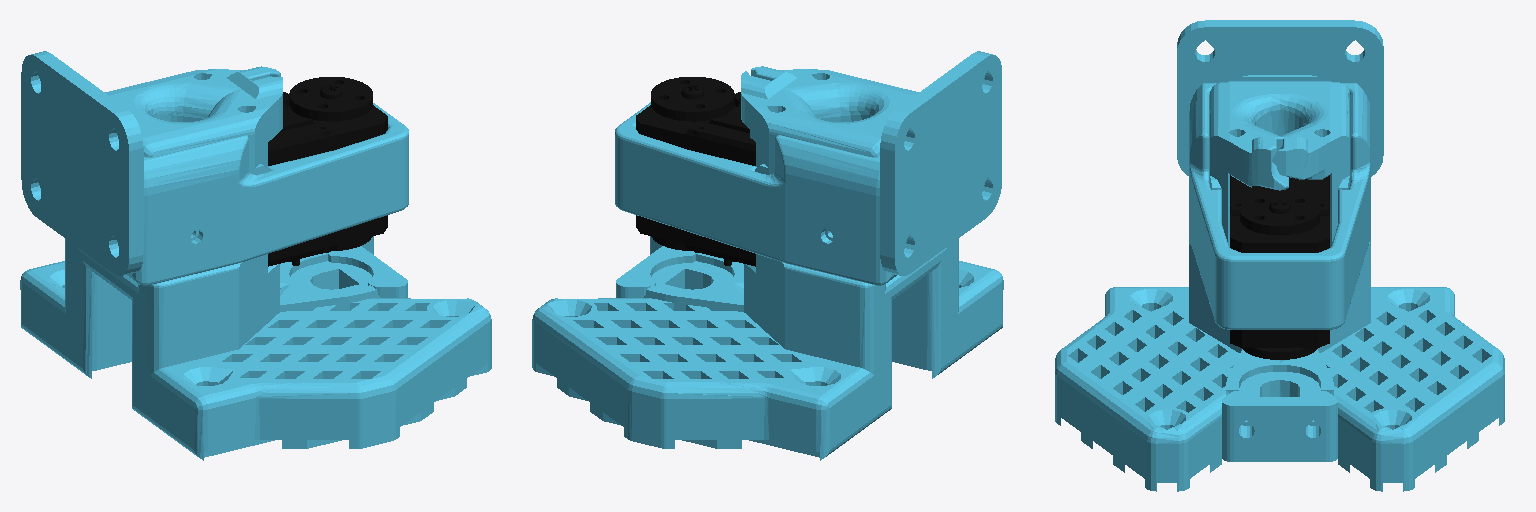
The robot description file, URDF, robot "SO-Arm":
<?xml version="1.0" ?>
<!-- =================================================================================== -->
<!-- |    This document was autogenerated by xacro from robot.xacro                    | -->
<!-- |    EDITING THIS FILE BY HAND IS NOT RECOMMENDED                                 | -->
<!-- =================================================================================== -->
<robot name="SO-Arm">
  <!-- Materials -->
  <material name="3d_printed">
    <color rgba="0.4 0.8196 0.945 1.0"/>
  </material>
  <material name="sts3215">
    <color rgba="0.1 0.1 0.1 1.0"/>
  </material>
  <link name="base_link">
    <inertial>
      <origin xyz="0 0.0311418169687909 0.0175746661003382"/>
      <mass value="0.193184127927598"/>
      <inertia ixx="0.000137030709467877" ixy="2.10136126944992E-08" ixz="4.24087422551286E-09" iyy="0.000169089551209259" iyz="2.26514711036514E-05" izz="0.000145097720857224"/>
    </inertial>
    <visual name="base_link_chassis">
      <geometry>
        <mesh filename="package://so_arm_description/meshes/so100/Base.stl"/>
      </geometry>
      <material name="3d_printed"/>
    </visual>
    <collision>
      <geometry>
        <mesh filename="package://so_arm_description/meshes/so100/Base.stl"/>
      </geometry>
    </collision>
  </link>
  <link name="motor1">
    <visual>
      <geometry>
        <mesh filename="package://so_arm_description/meshes/so100/Base_Motor.stl"/>
      </geometry>
      <material name="sts3215"/>
    </visual>
    <collision>
      <geometry>
        <mesh filename="package://so_arm_description/meshes/so100/Base_Motor.stl"/>
      </geometry>
    </collision>
  </link>
  <joint name="motor1_joint" type="fixed">
    <origin xyz="0 0 0"/>
    <parent link="base_link"/>
    <child link="motor1"/>
  </joint>
  <link name="Rotation_Pitch">
    <inertial>
      <origin xyz="-9.07886224712597E-05 0.0590971820568318 0.031089016892169"/>
      <mass value="0.119226314127197"/>
      <inertia ixx="5.90408775624429E-05" ixy="4.90800532852998E-07" ixz="-5.90451772654387E-08" iyy="3.21498601038881E-05" iyz="-4.58026206663885E-06" izz="5.86058514263952E-05"/>
    </inertial>
    <visual name="rotation_pitch_chassis">
      <geometry>
        <mesh filename="package://so_arm_description/meshes/so100/Rotation_Pitch.stl"/>
      </geometry>
      <material name="3d_printed"/>
    </visual>
    <collision>
      <geometry>
        <mesh filename="package://so_arm_description/meshes/so100/Rotation_Pitch.stl"/>
      </geometry>
    </collision>
  </link>
  <link name="motor2">
    <visual>
      <geometry>
        <mesh filename="package://so_arm_description/meshes/so100/Rotation_Pitch_Motor.stl"/>
      </geometry>
      <material name="sts3215"/>
    </visual>
    <collision>
      <geometry>
        <mesh filename="package://so_arm_description/meshes/so100/Rotation_Pitch_Motor.stl"/>
      </geometry>
    </collision>
  </link>
  <joint name="motor2_joint" type="fixed">
    <origin xyz="0 0 0"/>
    <parent link="Rotation_Pitch"/>
    <child link="motor2"/>
  </joint>
  <joint name="shoulder_pan" type="revolute">
    <origin rpy="1.5708 0 1.5708" xyz="0.0452 0 0.0165"/>
    <parent link="base_link"/>
    <child link="Rotation_Pitch"/>
    <axis xyz="0 -1 0"/>
    <limit effort="0" lower="-2.0" upper="2.0" velocity="0"/>
  </joint>
  <link name="Upper_Arm">
    <inertial>
      <origin xyz="-1.7205170190925E-05 0.0701802156327694 0.00310545118155671"/>
      <mass value="0.162409284599177"/>
      <inertia ixx="0.000167153146617081" ixy="1.03902689187701E-06" ixz="-1.20161820645189E-08" iyy="7.01946992214245E-05" iyz="2.11884806298698E-06" izz="0.000213280241160769"/>
    </inertial>
    <visual name="upper_arm_chassis">
      <geometry>
        <mesh filename="package://so_arm_description/meshes/so100/Upper_Arm.stl"/>
      </geometry>
      <material name="3d_printed"/>
    </visual>
    <collision>
      <geometry>
        <mesh filename="package://so_arm_description/meshes/so100/Upper_Arm.stl"/>
      </geometry>
    </collision>
  </link>
  <link name="motor3">
    <visual>
      <geometry>
        <mesh filename="package://so_arm_description/meshes/so100/Upper_Arm_Motor.stl"/>
      </geometry>
      <material name="sts3215"/>
    </visual>
    <collision>
      <geometry>
        <mesh filename="package://so_arm_description/meshes/so100/Upper_Arm_Motor.stl"/>
      </geometry>
    </collision>
  </link>
  <joint name="motor3_joint" type="fixed">
    <origin xyz="0 0 0"/>
    <parent link="Upper_Arm"/>
    <child link="motor3"/>
  </joint>
  <joint name="shoulder_lift" type="revolute">
    <origin xyz="0 0.1025 0.0306"/>
    <parent link="Rotation_Pitch"/>
    <child link="Upper_Arm"/>
    <axis xyz="1 0 0"/>
    <limit effort="0" lower="-1.5708" upper="1.5708" velocity="0"/>
  </joint>
  <link name="Lower_Arm">
    <inertial>
      <origin xyz="-0.00339603710186651 0.00137796353960074 0.0768006751156044"/>
      <mass value="0.147967774582291"/>
      <inertia ixx="0.000105333995841409" ixy="1.73059237226499E-07" ixz="-1.1720305455211E-05" iyy="0.000138766654485212" iyz="1.77429964684103E-06" izz="5.08741652515214E-05"/>
    </inertial>
    <visual name="lower_arm_chassis">
      <geometry>
        <mesh filename="package://so_arm_description/meshes/so100/Lower_Arm.stl"/>
      </geometry>
      <material name="3d_printed"/>
    </visual>
    <collision>
      <geometry>
        <mesh filename="package://so_arm_description/meshes/so100/Lower_Arm.stl"/>
      </geometry>
    </collision>
  </link>
  <link name="motor4">
    <visual>
      <geometry>
        <mesh filename="package://so_arm_description/meshes/so100/Lower_Arm_Motor.stl"/>
      </geometry>
      <material name="sts3215"/>
    </visual>
    <collision>
      <geometry>
        <mesh filename="package://so_arm_description/meshes/so100/Lower_Arm_Motor.stl"/>
      </geometry>
    </collision>
  </link>
  <joint name="motor4_joint" type="fixed">
    <origin xyz="0 0 0"/>
    <parent link="Lower_Arm"/>
    <child link="motor4"/>
  </joint>
  <joint name="elbow_flex" type="revolute">
    <origin xyz="0 0.11257 0.028"/>
    <parent link="Upper_Arm"/>
    <child link="Lower_Arm"/>
    <axis xyz="1 0 0"/>
    <limit effort="0" lower="-1.5708" upper="1.5708" velocity="0"/>
  </joint>
  <link name="Wrist_Pitch_Roll">
    <inertial>
      <origin xyz="-0.00852653127372418 -0.0352278997897927 -2.34622481569413E-05"/>
      <mass value="0.066132067097723"/>
      <inertia ixx="1.95717492443445E-05" ixy="-6.62714374412293E-07" ixz="5.20089016442066E-09" iyy="2.38028417569933E-05" iyz="4.09549055863776E-08" izz="3.4540143384536E-05"/>
    </inertial>
    <visual name="wrist_pitch_roll_chassis">
      <geometry>
        <mesh filename="package://so_arm_description/meshes/so100/Wrist_Pitch_Roll.stl"/>
      </geometry>
      <material name="3d_printed"/>
    </visual>
    <collision>
      <geometry>
        <mesh filename="package://so_arm_description/meshes/so100/Wrist_Pitch_Roll.stl"/>
      </geometry>
    </collision>
  </link>
  <link name="motor5">
    <visual>
      <geometry>
        <mesh filename="package://so_arm_description/meshes/so100/Wrist_Pitch_Roll_Motor.stl"/>
      </geometry>
      <material name="sts3215"/>
    </visual>
    <collision>
      <geometry>
        <mesh filename="package://so_arm_description/meshes/so100/Wrist_Pitch_Roll_Motor.stl"/>
      </geometry>
    </collision>
  </link>
  <joint name="motor5_joint" type="fixed">
    <origin xyz="0 0 0"/>
    <parent link="Wrist_Pitch_Roll"/>
    <child link="motor5"/>
  </joint>
  <joint name="wrist_flex" type="revolute">
    <origin rpy="-1.5708 0 0" xyz="0 0.0052 0.1349"/>
    <parent link="Lower_Arm"/>
    <child link="Wrist_Pitch_Roll"/>
    <axis xyz="1 0 0"/>
    <limit effort="0" lower="-1.8" upper="1.8" velocity="0"/>
  </joint>
  <link name="Fixed_Jaw">
    <inertial>
      <origin xyz="0.00552376906426563 -0.0280167153359021 0.000483582592841092"/>
      <mass value="0.0929859131176897"/>
      <inertia ixx="4.3328249304211E-05" ixy="7.09654328670947E-06" ixz="5.99838530879484E-07" iyy="3.04451747368212E-05" iyz="-1.58743247545413E-07" izz="5.02460913506734E-05"/>
    </inertial>
    <visual name="fixed_jaw_chassis">
      <geometry>
        <mesh filename="package://so_arm_description/meshes/so100/Fixed_Jaw.stl"/>
      </geometry>
      <material name="3d_printed"/>
    </visual>
    <collision>
      <geometry>
        <mesh filename="package://so_arm_description/meshes/so100/Fixed_Jaw_part1.ply"/>
      </geometry>
    </collision>
    <collision>
      <geometry>
        <mesh filename="package://so_arm_description/meshes/so100/Fixed_Jaw_part2.ply"/>
      </geometry>
    </collision>
  </link>
  <link name="motor6">
    <visual>
      <geometry>
        <mesh filename="package://so_arm_description/meshes/so100/Fixed_Jaw_Motor.stl"/>
      </geometry>
      <material name="sts3215"/>
    </visual>
  </link>
  <joint name="motor6_joint" type="fixed">
    <origin xyz="0 0 0"/>
    <parent link="Fixed_Jaw"/>
    <child link="motor6"/>
  </joint>
  <joint name="wrist_roll" type="revolute">
    <origin rpy="0 1.5708 0" xyz="0 -0.0601 0"/>
    <parent link="Wrist_Pitch_Roll"/>
    <child link="Fixed_Jaw"/>
    <axis xyz="0 1 0"/>
    <limit effort="0" lower="-3.14159" upper="3.14159" velocity="0"/>
  </joint>
  <link name="Moving_Jaw">
    <inertial>
      <origin xyz="-0.00161744605468241 -0.0303472584046471 0.000449645961853651"/>
      <mass value="0.0202443794940372"/>
      <inertia ixx="1.10911325081525E-05" ixy="-5.35076503033314E-07" ixz="-9.46105662101403E-09" iyy="3.03576451001973E-06" iyz="-1.71146075110632E-07" izz="8.9916083370498E-06"/>
    </inertial>
    <visual name="moving_jaw_chassis">
      <geometry>
        <mesh filename="package://so_arm_description/meshes/so100/Moving_Jaw.stl"/>
      </geometry>
      <material name="3d_printed"/>
    </visual>
    <collision>
      <geometry>
        <mesh filename="package://so_arm_description/meshes/so100/Moving_Jaw_part1.ply"/>
      </geometry>
    </collision>
    <collision>
      <geometry>
        <mesh filename="package://so_arm_description/meshes/so100/Moving_Jaw_part2.ply"/>
      </geometry>
    </collision>
    <collision>
      <geometry>
        <mesh filename="package://so_arm_description/meshes/so100/Moving_Jaw_part3.ply"/>
      </geometry>
    </collision>
  </link>
  <joint name="gripper" type="revolute">
    <origin rpy="0 3.14159 -0.9" xyz="-0.0202 -0.0244 0"/>
    <parent link="Fixed_Jaw"/>
    <child link="Moving_Jaw"/>
    <axis xyz="0 0 1"/>
    <limit effort="0" lower="-1.1" upper="1.1" velocity="0"/>
  </joint>
  <!-- fake joints for useful data -->
  <joint name="fixed_jaw_tip_joint" type="fixed">
    <origin rpy="1.5708 0 -1.5708" xyz="0.01 -0.097 0"/>
    <parent link="Fixed_Jaw"/>
    <child link="fixed_jaw_tip"/>
  </joint>
  <link name="fixed_jaw_tip"/>
  <joint name="Moving_Jaw_tip_joint" type="fixed">
    <origin rpy="-1.5708 0 -1.5708" xyz="-0.01 -0.073 0"/>
    <parent link="Moving_Jaw"/>
    <child link="Moving_Jaw_tip"/>
  </joint>
  <link name="Moving_Jaw_tip"/>
</robot>

--- Facts derived from the render (not from the file) ---
3 views of the same robot in one strip: view 1: azimuth 30°, elevation 25°; view 2: azimuth 150°, elevation 25°; view 3: azimuth 270°, elevation 25° (orthographic).
Robot: SO-Arm — 15 links, 14 joints (6 revolute, 8 fixed); root link base_link; default pose: every joint at zero.
Links seen in each view (by area): view 1: base_link, motor1; view 2: base_link, motor1; view 3: base_link, motor1.
Boxes of the visible links, box(x1,y1,x2,y2) form: base_link: box(20, 51, 491, 460); motor1: box(268, 77, 387, 266); base_link: box(532, 51, 1003, 460); motor1: box(636, 77, 755, 266); base_link: box(1055, 20, 1504, 491); motor1: box(1230, 175, 1329, 359).
Size in the robot's own frame: 0.0959 by 0.1109 by 0.0835 metres.
2 mesh visuals loaded from 13 distinct referenced files (2 binary STL); not drawn: 11 (reference not matched to a file when rendering).